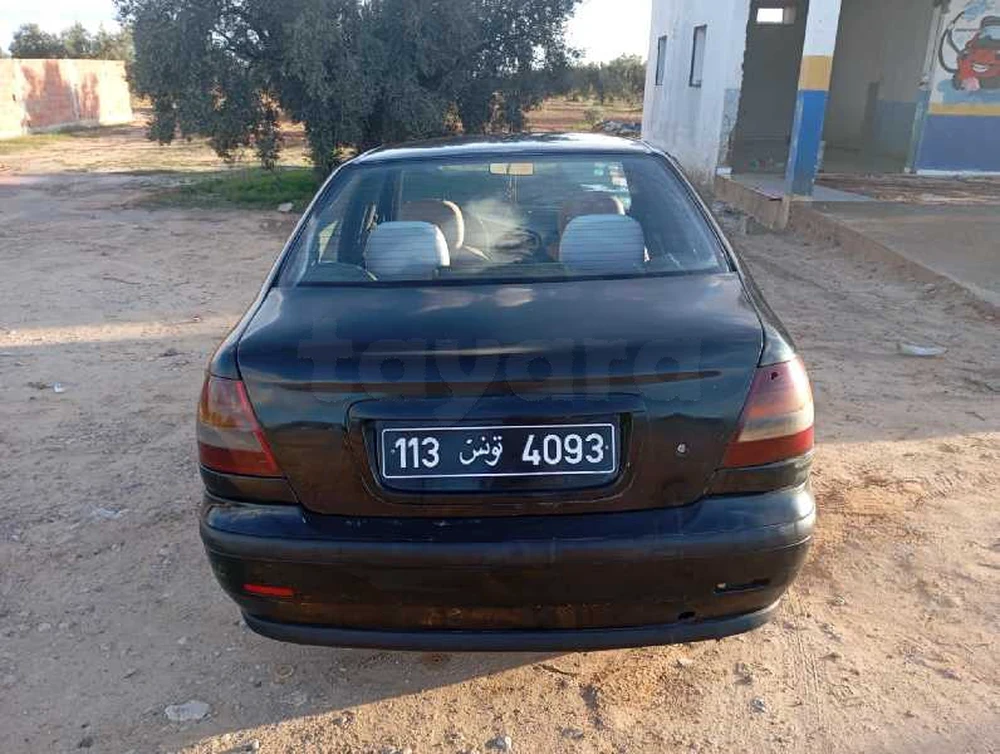fiat: (197, 136, 822, 658)
